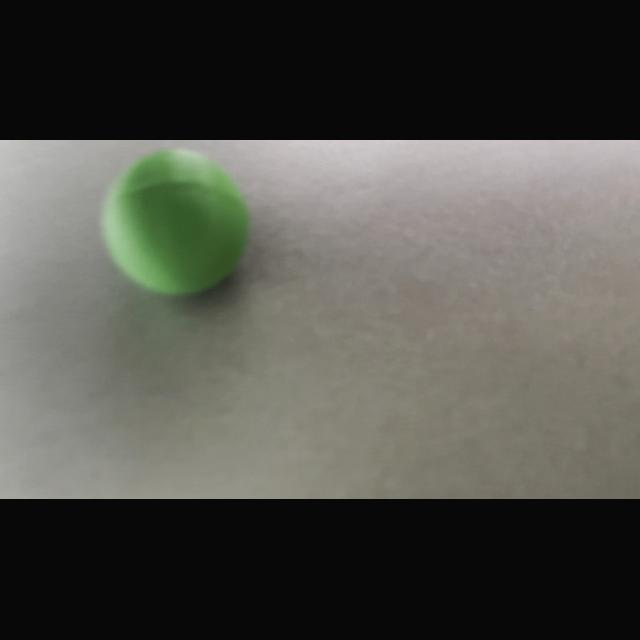objects: (92, 142, 260, 306)
